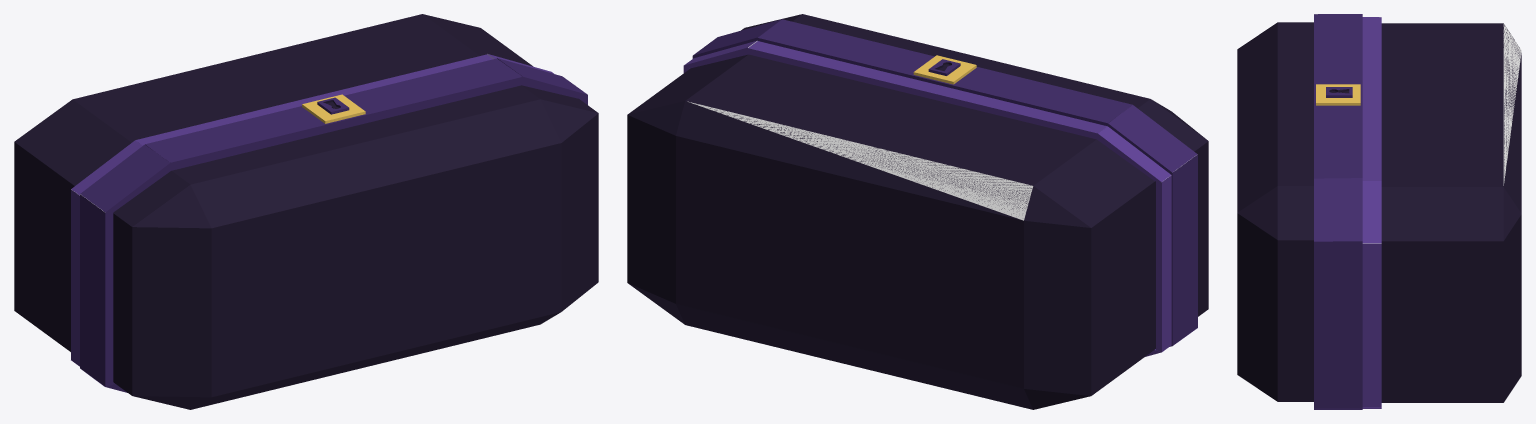
File: bau_cor.gltf
3 renders of one model, left to right at view 1: azimuth 30°, elevation 25°; view 2: azimuth 150°, elevation 25°; view 3: azimuth 270°, elevation 25°, orthographic. The views are drawn at different scales.
Parts seen in each view (by area): view 1: tampa, caixote, faixa_frontal (×2), faixa_lateral (×2), faixa_diagonal (×3), suporte; view 2: caixote, faixa_frontal (×2), faixa_lateral (×2), tampa, faixa_diagonal (×4), suporte; view 3: caixote, tampa, faixa_lateral (×2), faixa_frontal (×2), faixa_diagonal (×2), suporte, buraco.
Part boxes in pixels (x1,y1,x2,y2): tampa: [113, 85, 598, 409]; caixote: [14, 14, 532, 351]; faixa_frontal (×2): [135, 54, 522, 170]; faixa_lateral (×2): [71, 189, 113, 386]; faixa_diagonal (×3): [71, 58, 587, 212]; suporte: [302, 94, 365, 123]; caixote: [627, 54, 1155, 409]; faixa_frontal (×2): [747, 19, 1132, 139]; faixa_lateral (×2): [1156, 154, 1197, 352]; tampa: [741, 14, 1208, 316]; faixa_diagonal (×4): [684, 19, 1197, 181]; suporte: [913, 55, 976, 84]; caixote: [1381, 23, 1521, 402]; tampa: [1237, 22, 1313, 401]; faixa_lateral (×2): [1314, 241, 1381, 408]; faixa_frontal (×2): [1314, 14, 1381, 180]; faixa_diagonal (×2): [1314, 178, 1381, 243]; suporte: [1316, 84, 1360, 105]; buraco: [1326, 87, 1352, 97].
Bounding box in the file's own units: 30.03 × 14.71 × 16.
Materials: 8 (4 with a texture image).
